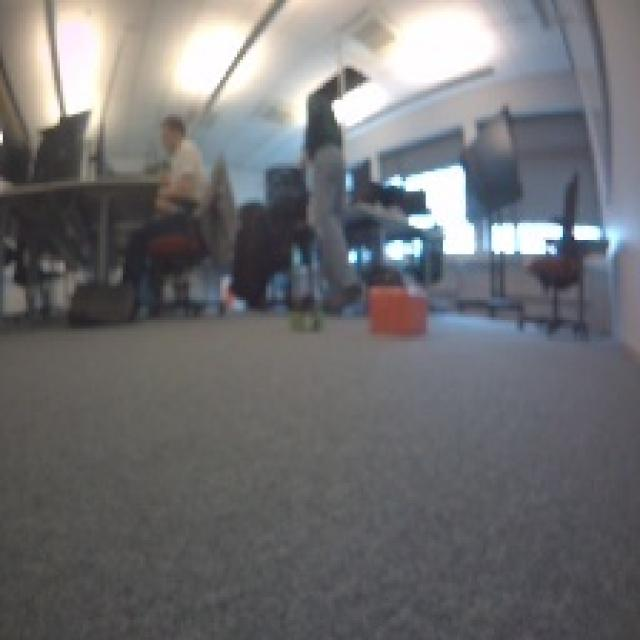robot: (285, 291, 331, 335)
target: (366, 280, 428, 334)
